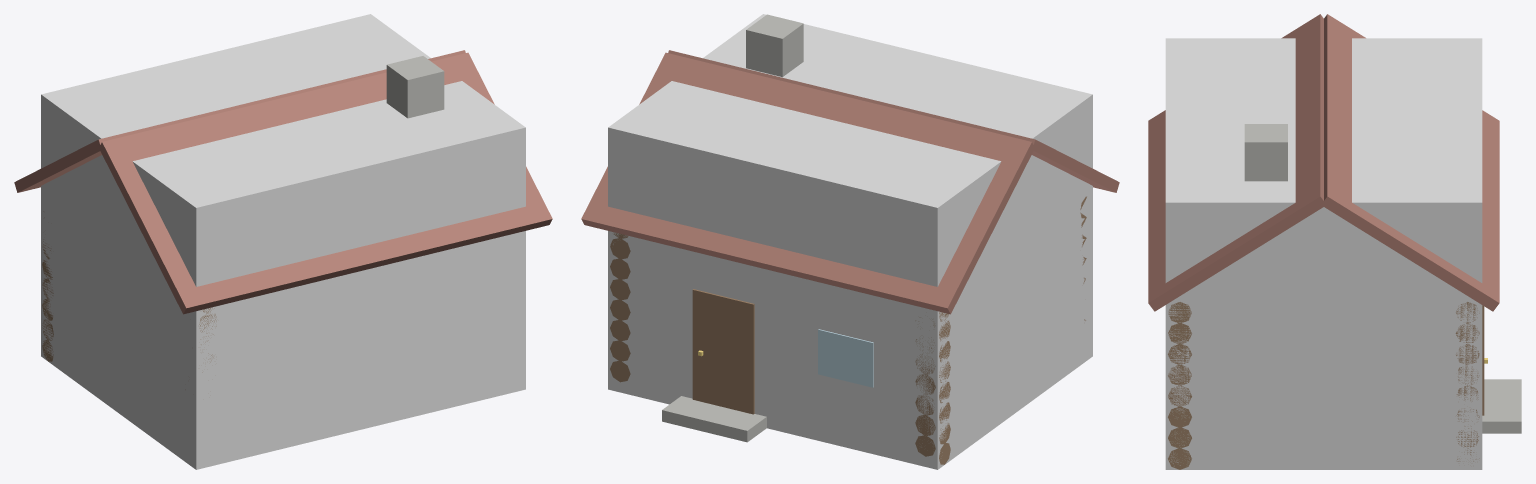
File: Cabin.fbx
The picture shows the model from 3 angles, left to right: view 1: azimuth 30°, elevation 25°; view 2: azimuth 150°, elevation 25°; view 3: azimuth 270°, elevation 25°; orthographic projection. The views are drawn at different scales.
Parts seen in each view (by area): view 1: COL_Cabin, Cabin_Mesh; view 2: COL_Cabin, Cabin_Mesh; view 3: COL_Cabin, Cabin_Mesh.
Part boxes in pixels (x1,y1,x2,y2): COL_Cabin: (41,14,525,469); Cabin_Mesh: (14,50,552,389); COL_Cabin: (608,14,1092,469); Cabin_Mesh: (581,14,1119,464); COL_Cabin: (1165,38,1482,469); Cabin_Mesh: (1148,14,1521,469).
Bounding box in the file's own units: 6 × 4.7 × 5.19.
